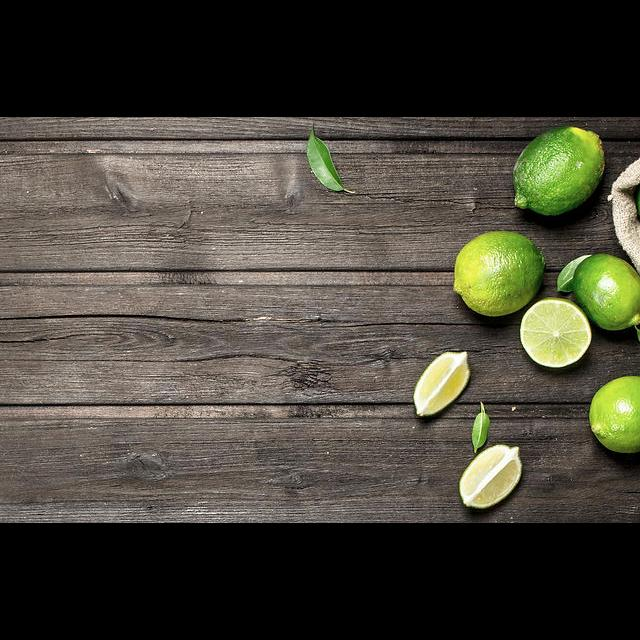lime: (508, 120, 611, 225), (448, 225, 550, 323), (564, 245, 640, 335), (580, 372, 640, 461)
